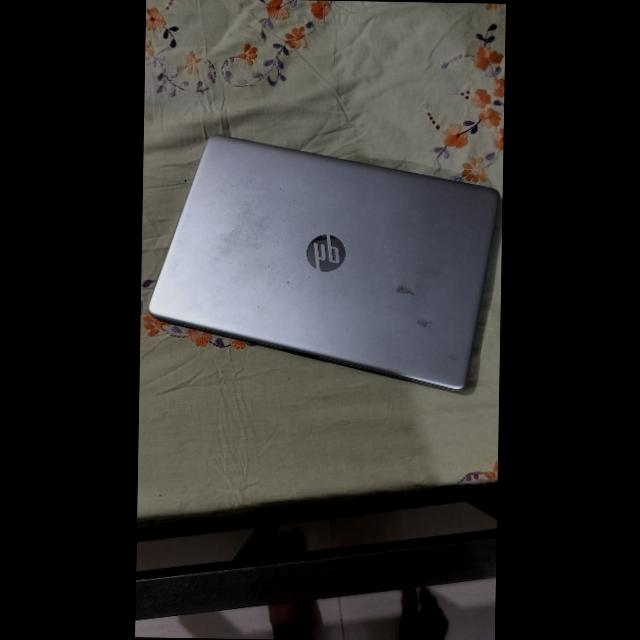laptop: (141, 120, 501, 414)
